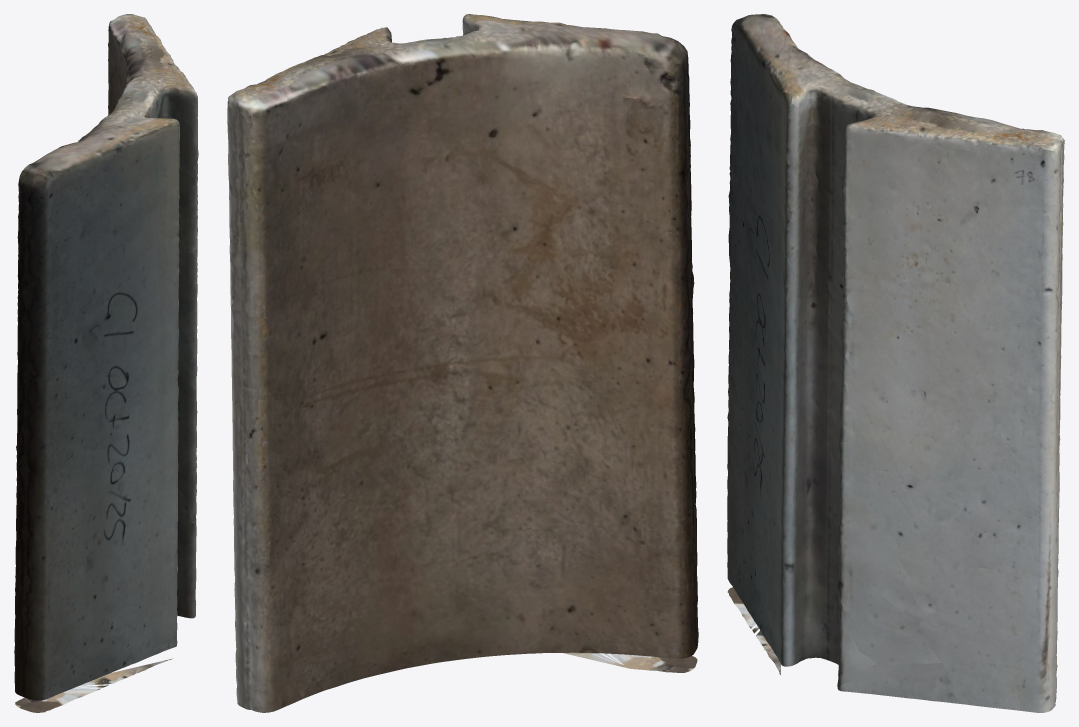
3 renders of one model, left to right at view 1: azimuth 30°, elevation 25°; view 2: azimuth 150°, elevation 25°; view 3: azimuth 270°, elevation 25°, orthographic. The views are drawn at different scales.
Visible parts, largest first — view 1: Node; view 2: Node; view 3: Node.
Part boxes in pixels (box(x1,y1,x2,y2)): Node: box(14, 14, 198, 712); Node: box(227, 14, 698, 712); Node: box(727, 14, 1064, 712).
Size of the model in its own units: 0.3502 by 0.6858 by 0.3574.
1 material, 1 textured.
